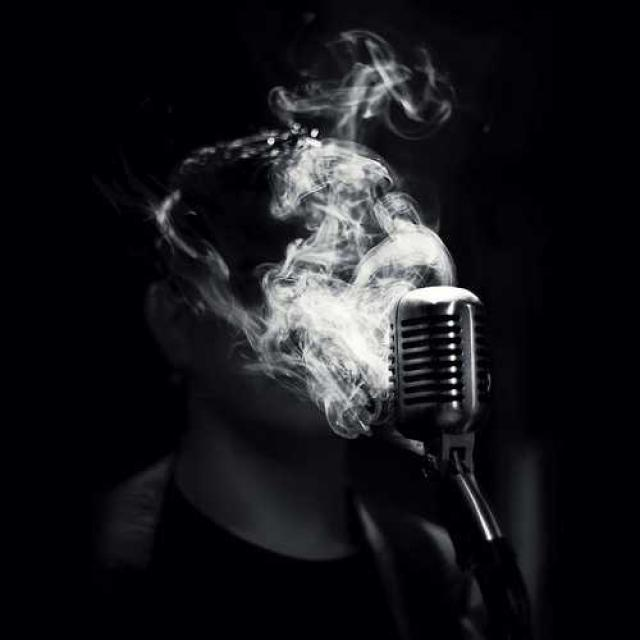microphone: (388, 286, 491, 446)
